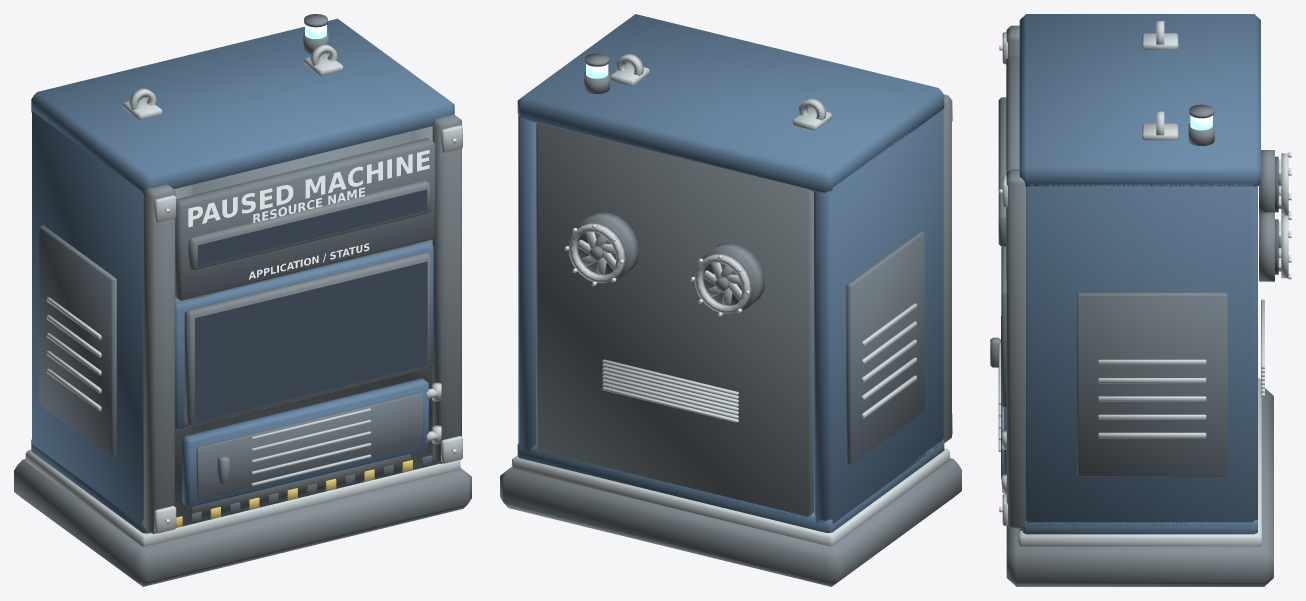
File: paused_machine_standard.glb
3 renders of one model, left to right at view 1: azimuth 30°, elevation 25°; view 2: azimuth 150°, elevation 25°; view 3: azimuth 270°, elevation 25°, orthographic. The views are drawn at different scales.
Visible parts, largest first — view 1: Roof_navy, LiveViewSurface_glass, SideWall_navy, CornerPost_frame, Skid_frame, FrontHeader_graphite, SideServicePanel_graphite, DoorMoving_Inset_graphite, DoorMoving_Panel_navy, SkidDeck_steel, LiveViewSurfaceFrame_frame, ResourceNameSurface_glass (+15 smaller); view 2: BackWall_frame, Roof_navy, SideWall_navy, Skid_frame, SideServicePanel_graphite, SkidDeck_steel, KickPlate_navy, RearFan_steel, RearVent_steel, CornerPost_frame, RearFan_frame, SideLouver_steel (+3 smaller); view 3: SideWall_navy, Roof_navy, SideServicePanel_graphite, Skid_frame, CornerPost_frame, SkidDeck_steel, SideLouver_steel, KickPlate_navy, RearFan_frame, FrontHeader_graphite, RearFan_steel, ResourceNameSurfaceFrame_frame (+6 smaller).
Boxes of the visible parts, x1,y1,x2,y2 form: Roof_navy: (31,18,454,193); LiveViewSurface_glass: (195,261,427,422); SideWall_navy: (32,111,143,524); CornerPost_frame: (143,114,461,533); Skid_frame: (14,459,471,586); FrontHeader_graphite: (175,138,435,300); SideServicePanel_graphite: (39,225,116,457); DoorMoving_Inset_graphite: (196,393,423,499); DoorMoving_Panel_navy: (182,378,428,507); SkidDeck_steel: (25,449,460,546); LiveViewSurfaceFrame_frame: (184,252,430,426); ResourceNameSurface_glass: (198,189,427,266); BackWall_frame: (536,123,813,519); Roof_navy: (517,14,944,192); SideWall_navy: (518,109,943,523); Skid_frame: (500,458,961,586); SideServicePanel_graphite: (846,231,924,464); SkidDeck_steel: (512,448,949,546); KickPlate_navy: (517,438,944,532); RearFan_steel: (568,223,751,313); RearVent_steel: (602,359,738,422); CornerPost_frame: (943,94,951,442); RearFan_frame: (576,212,765,312); SideLouver_steel: (861,303,916,418); SideWall_navy: (1026,184,1257,525); Roof_navy: (1019,14,1260,186); SideServicePanel_graphite: (1077,292,1227,476); Skid_frame: (1006,388,1273,586); CornerPost_frame: (1006,25,1025,528); SkidDeck_steel: (1018,378,1261,546); SideLouver_steel: (1098,359,1206,438); KickPlate_navy: (1022,519,1257,534); RearFan_frame: (1259,150,1274,281); FrontHeader_graphite: (1006,56,1019,279); RearFan_steel: (1278,153,1288,278); ResourceNameSurfaceFrame_frame: (998,97,1006,246).
Bounding box in the file's own units: 2 × 2.48 × 1.51.
